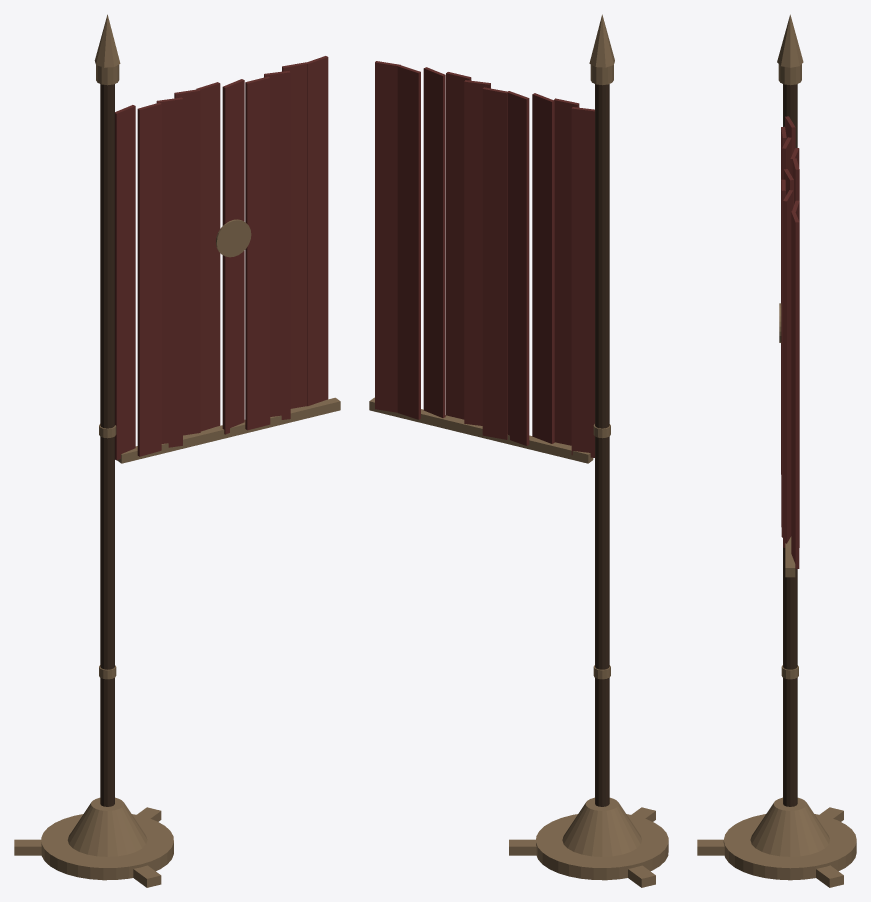
Rendered from dr_flag.glb.
3 views of the same model, side by side, from view 1: azimuth 30°, elevation 25°; view 2: azimuth 150°, elevation 25°; view 3: azimuth 270°, elevation 25° (orthographic).
Parts seen in each view (by area): view 1: dr_flag; view 2: dr_flag; view 3: dr_flag.
Part boxes in pixels (box(x1,y1,x2,y2)): dr_flag: box(14, 14, 340, 887); dr_flag: box(369, 14, 668, 887); dr_flag: box(697, 14, 856, 887).
Bounding box in the file's own units: 1.05 × 2.78 × 0.4799.
